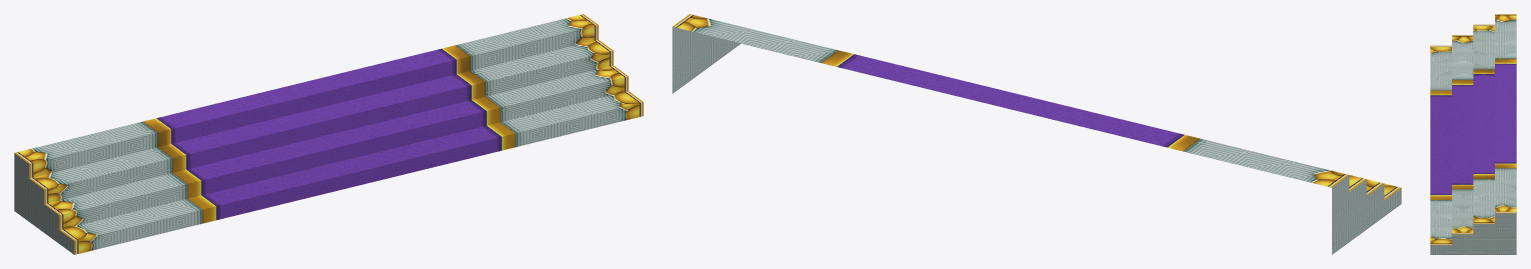
File: p4kaidan.fbx
3 renders of one model, left to right at view 1: azimuth 30°, elevation 25°; view 2: azimuth 150°, elevation 25°; view 3: azimuth 270°, elevation 25°, orthographic. The views are drawn at different scales.
Parts seen in each view (by area): view 1: kaidan:p4kaidan1; view 2: kaidan:p4kaidan1; view 3: kaidan:p4kaidan1.
Boxes of the visible parts, bbox=[...] form: kaidan:p4kaidan1: bbox=[14, 14, 643, 254]; kaidan:p4kaidan1: bbox=[672, 14, 1401, 254]; kaidan:p4kaidan1: bbox=[1430, 14, 1516, 254].
Size of the model in its own units: 69.89 by 6.82 by 12.78.
Materials: 1 (1 with a texture image).
